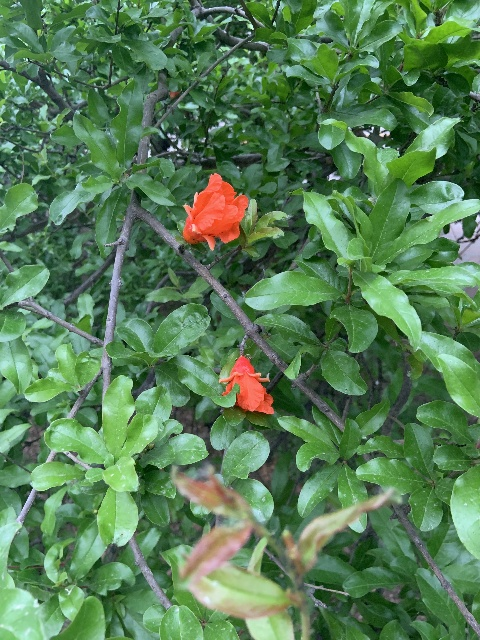flower: (181, 172, 248, 250), (219, 354, 273, 413)
